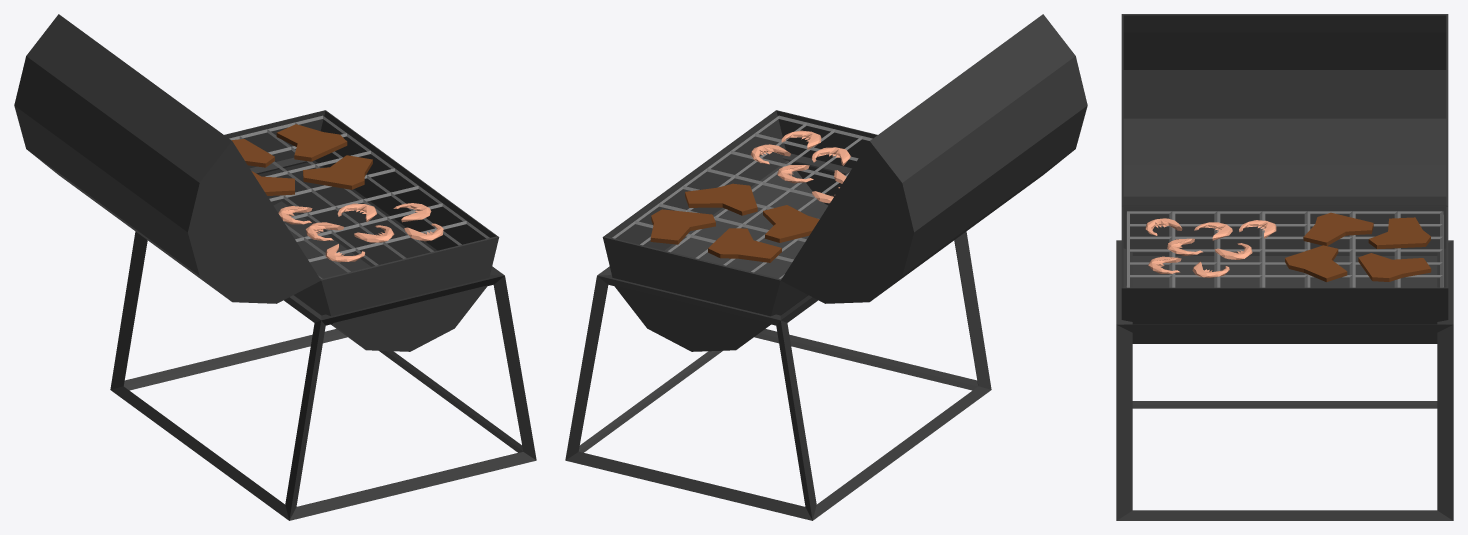
The model's file is BBQ.fbx.
The picture shows the model from 3 angles, left to right: view 1: azimuth 30°, elevation 25°; view 2: azimuth 150°, elevation 25°; view 3: azimuth 270°, elevation 25°; orthographic projection. The views are drawn at different scales.
Parts seen in each view (by area): view 1: BBQ; view 2: BBQ; view 3: BBQ.
Part boxes in pixels (x1=…): BBQ: x1=14, y1=14, x2=536, y2=520; BBQ: x1=565, y1=14, x2=1087, y2=520; BBQ: x1=1116, y1=14, x2=1453, y2=520.
Bounding box in the file's own units: 389 × 420 × 349.
